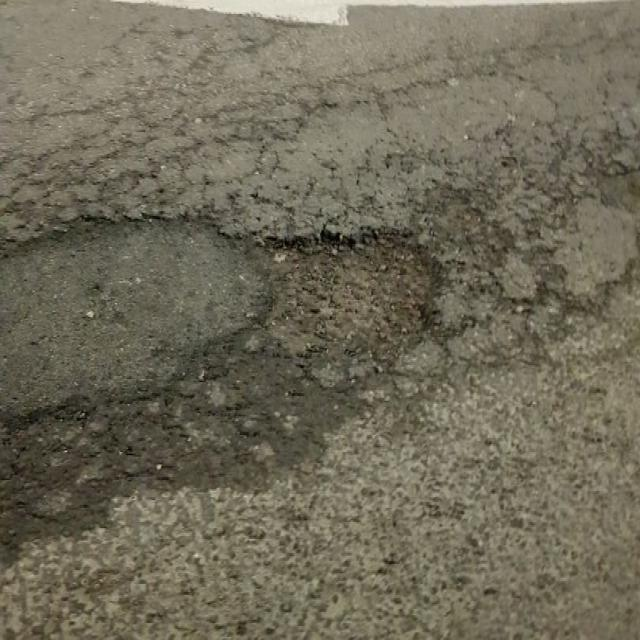Pothole: (255, 207, 438, 377)
